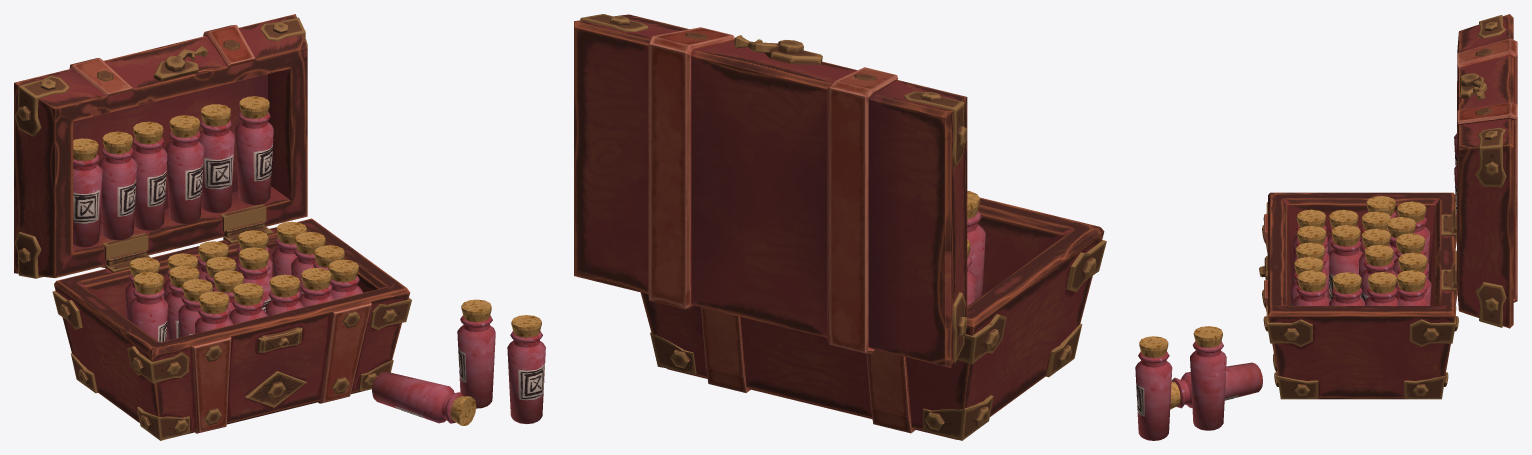
File: magickHerbalistKit_FINAL.fbx
The picture shows the model from 3 angles, left to right: view 1: azimuth 30°, elevation 25°; view 2: azimuth 150°, elevation 25°; view 3: azimuth 270°, elevation 25°; orthographic projection. The views are drawn at different scales.
Parts seen in each view (by area): view 1: Vial1; view 2: Vial1; view 3: Vial1.
Part boxes in pixels (<box>): Vial1: <box>14,14,545,440</box>; Vial1: <box>574,14,1106,440</box>; Vial1: <box>1135,14,1517,440</box>.
Size of the model in its own units: 75.39 by 59.57 by 75.17.
